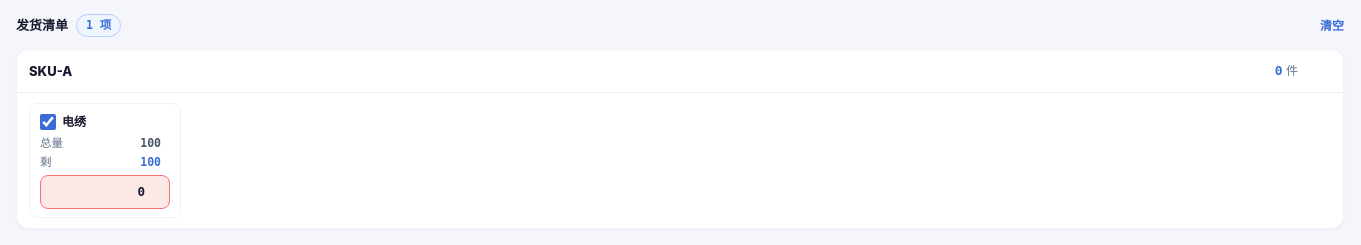
it: OutsourceShipCartPanel 右栏清单 › 数量输入纠正：超限钳制到上限且不进入非法态
The width and height of the screenshot is (1361, 245).
Replace the text in the number field with class "osw-qty" with "999" at point(105, 192), box [40, 175, 170, 209]
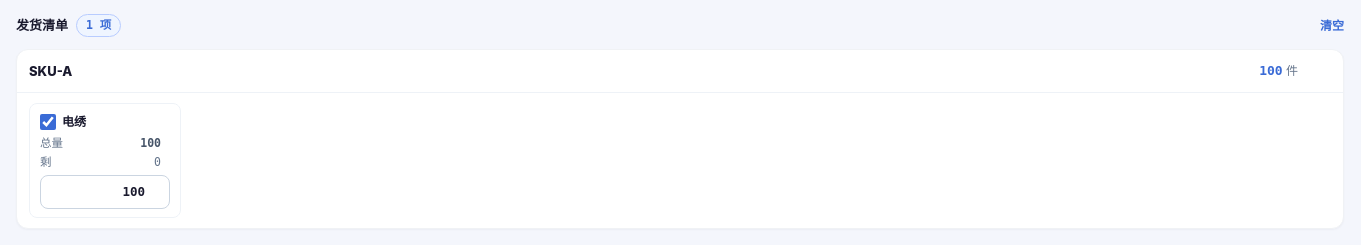
Result: the number field with class "osw-qty" holds "100" at [40, 175, 170, 209]
